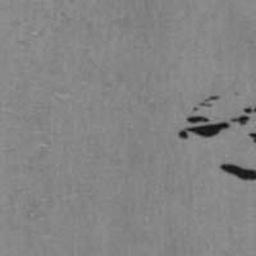Inclusion: (177, 105, 256, 140), (220, 163, 256, 182), (192, 95, 220, 111), (248, 133, 256, 143)
